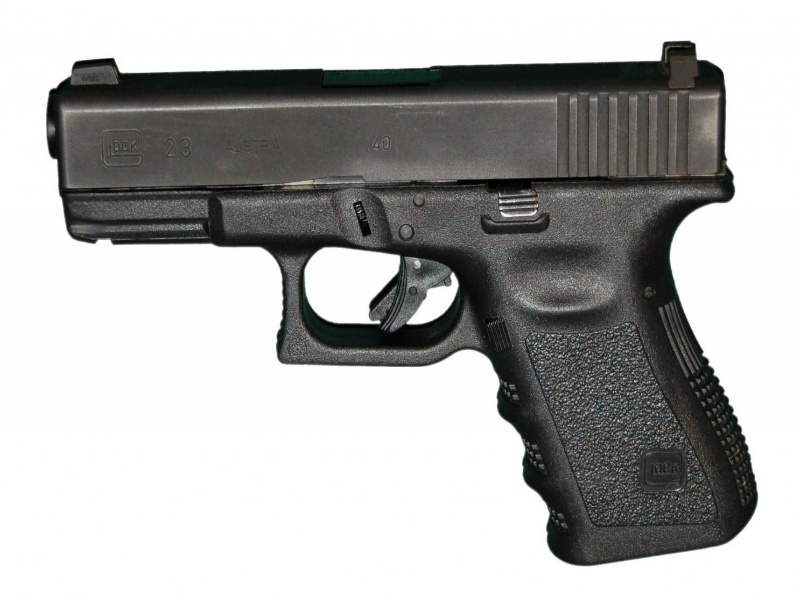gun: (45, 42, 793, 582)
